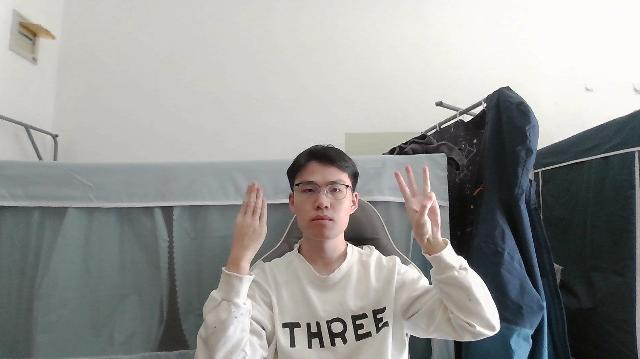four: (228, 181, 268, 257)
three: (392, 165, 441, 243)
